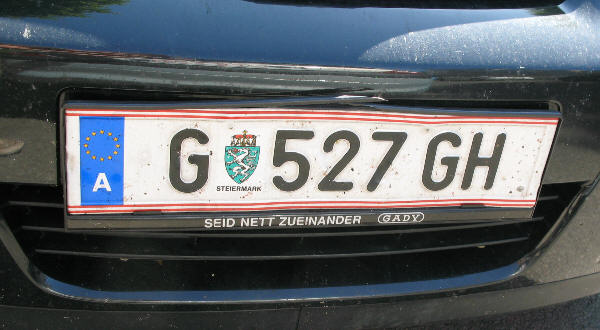license_plate: (67, 108, 572, 213)
